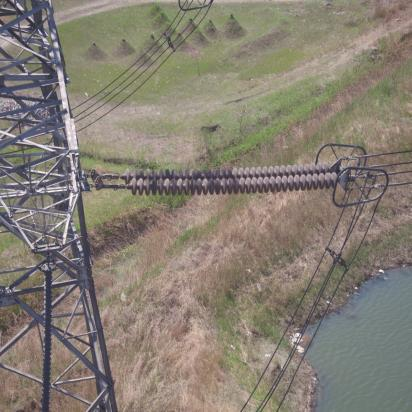insulator: (109, 162, 346, 198)
